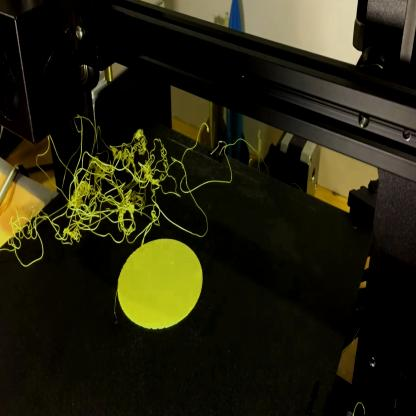fail: (30, 106, 174, 239)
